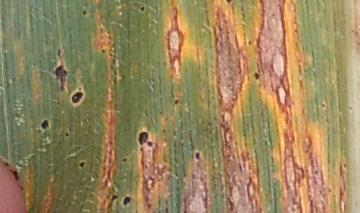tarspot: (55, 65, 68, 91), (71, 91, 84, 105), (137, 131, 148, 145), (40, 119, 50, 132), (122, 196, 131, 207), (12, 169, 20, 181), (2, 159, 11, 167), (253, 71, 260, 81), (246, 38, 253, 47), (194, 152, 200, 161), (57, 49, 63, 57), (78, 162, 86, 168), (172, 98, 178, 106), (111, 195, 118, 201), (100, 48, 107, 54), (139, 6, 145, 12), (147, 141, 153, 147), (82, 9, 87, 16), (121, 158, 128, 163), (225, 1, 233, 5), (65, 132, 70, 138)
